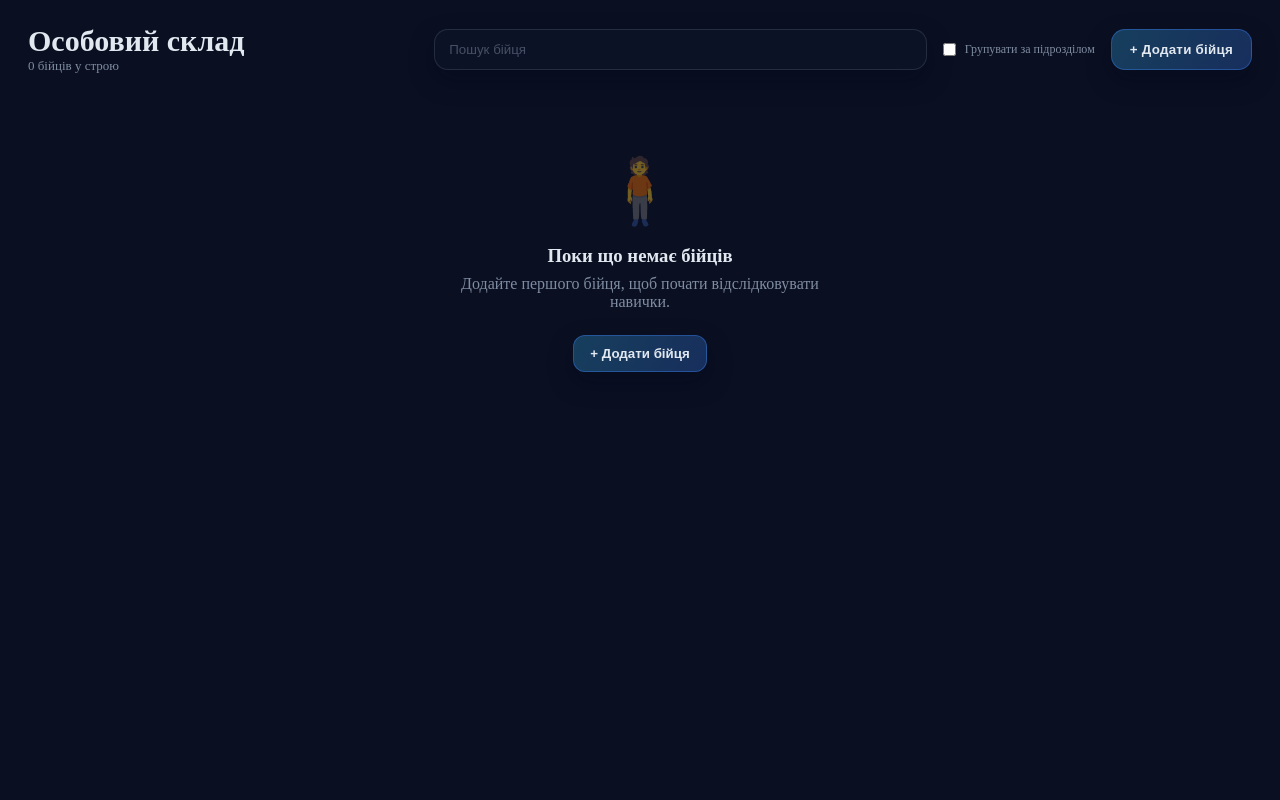
Test: Fighters page › filters rank suggestions and selects value in create modal
Click the button "+ Додати бійця" next to "Групувати за підрозділом" at x=1181, y=49, box [1111, 28, 1252, 70]
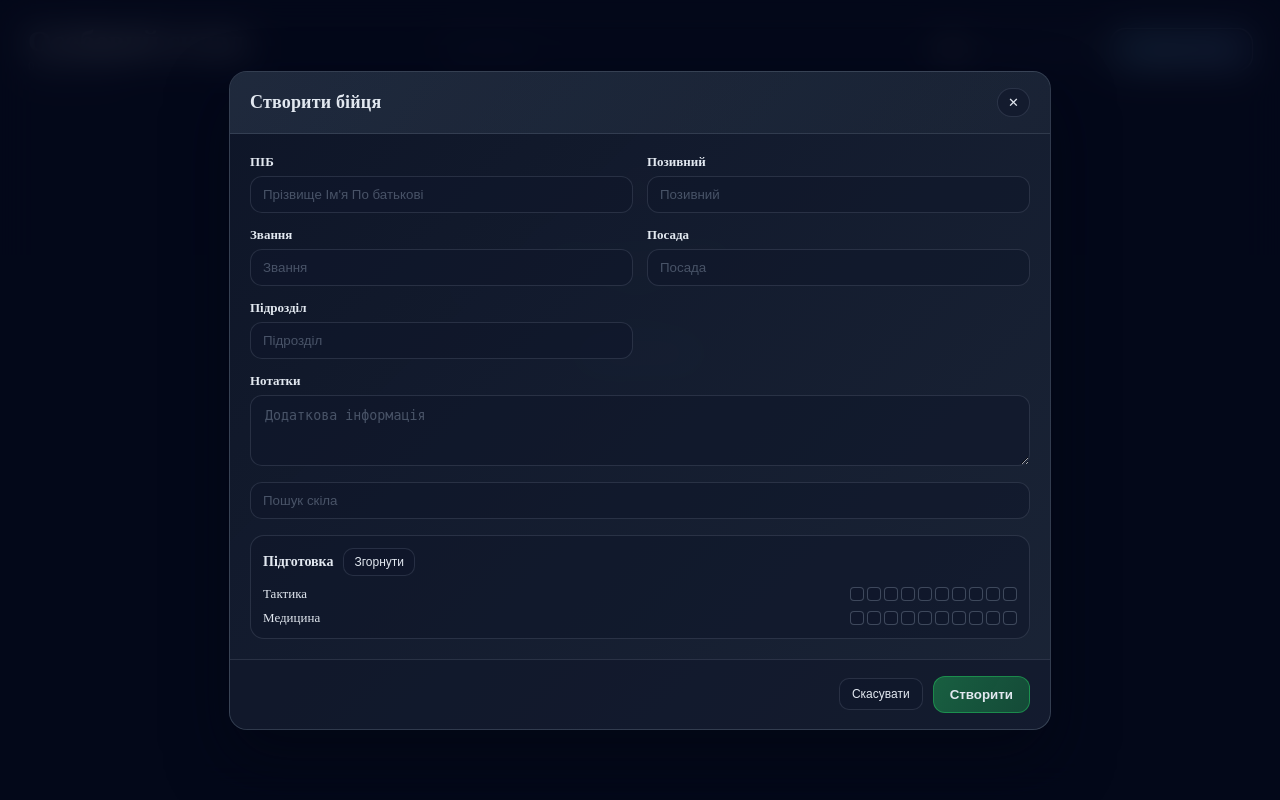
Type "лейт" into the field with placeholder "Звання" at x=442, y=267, box [250, 248, 633, 286]
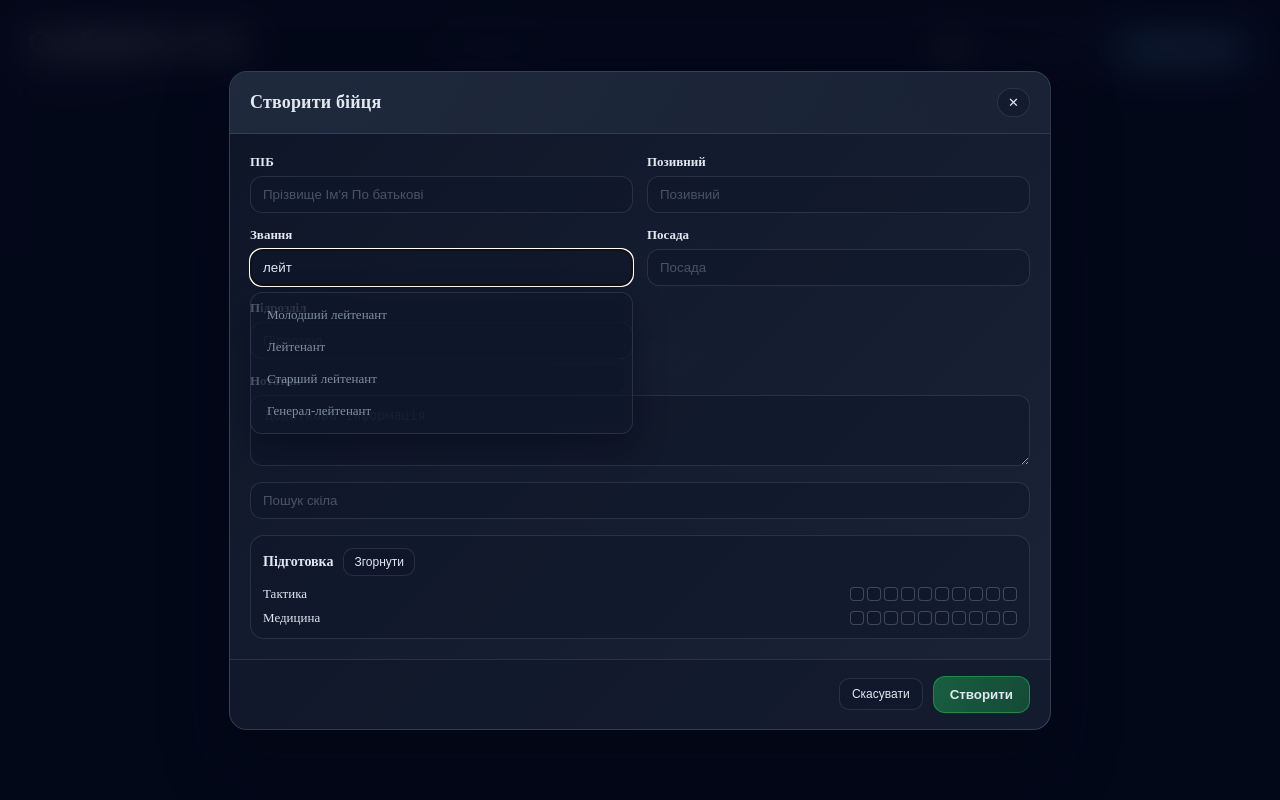
Click the list item "Лейтенант" at x=442, y=346, box [259, 332, 624, 360]
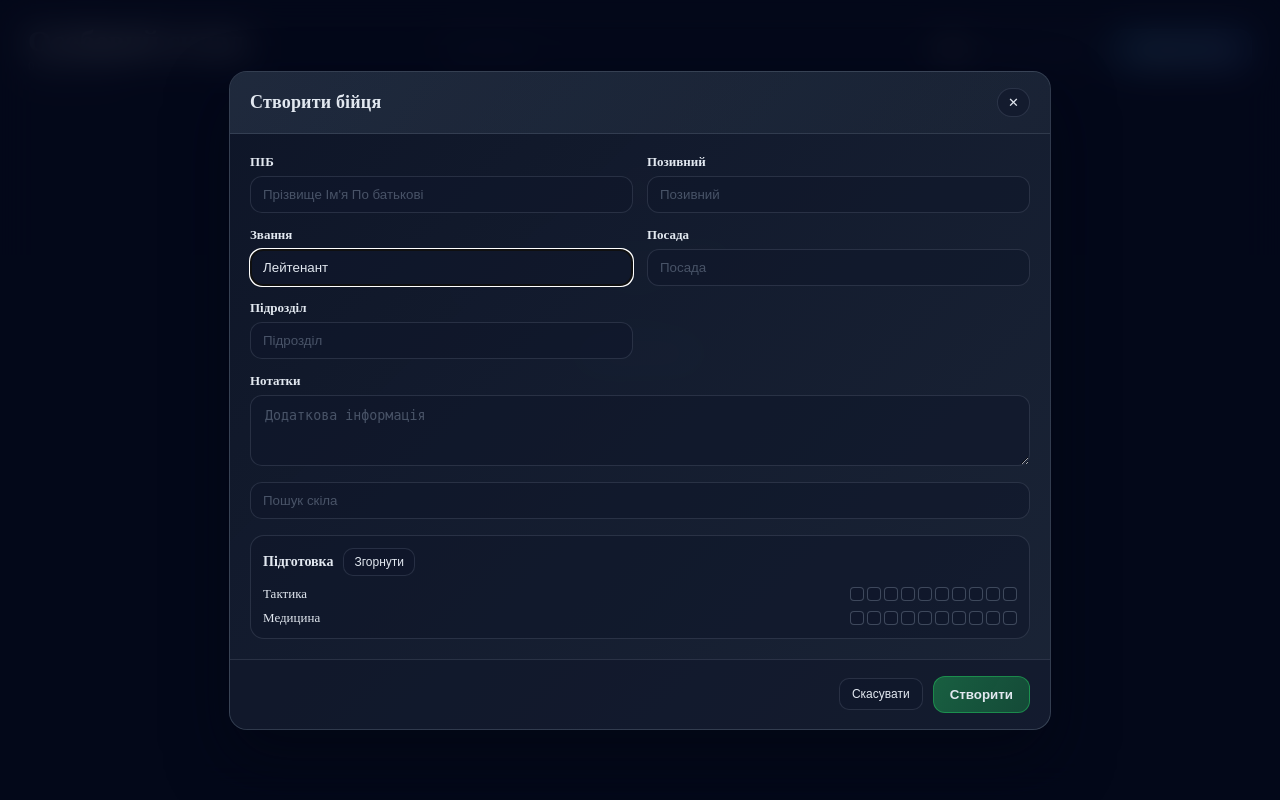
Expected: the field with placeholder "Звання" holds "Лейтенант", [250, 248, 633, 286]
